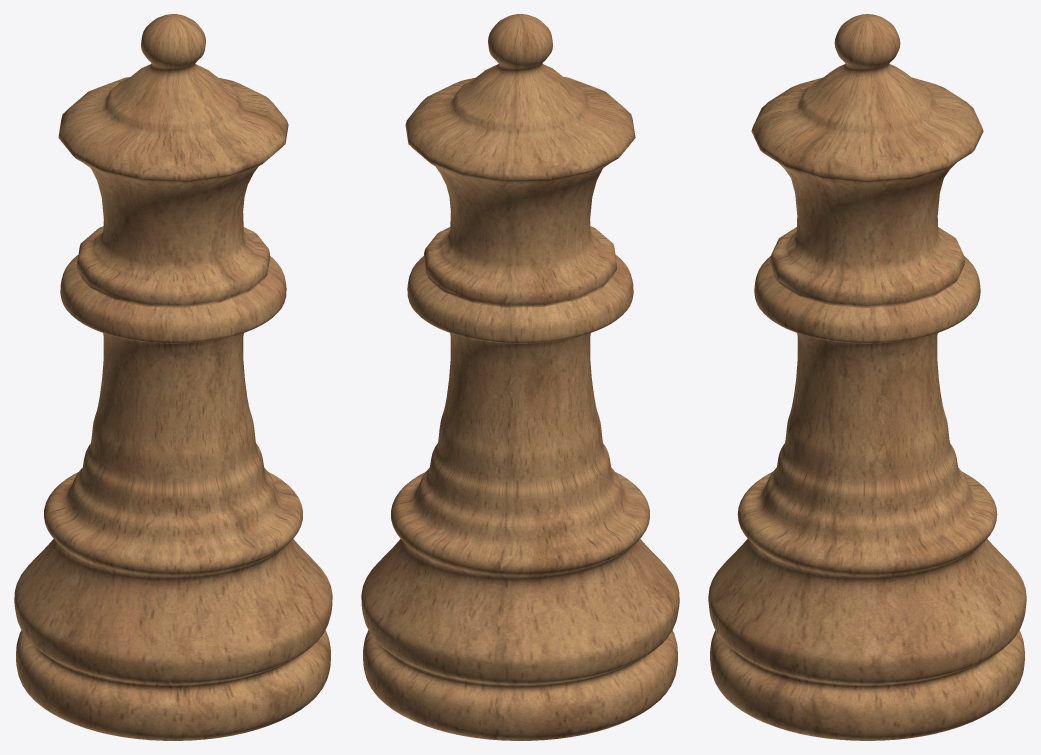
Rendered from 白クイーン.fbx.
The picture shows the model from 3 angles, left to right: view 1: azimuth 30°, elevation 25°; view 2: azimuth 150°, elevation 25°; view 3: azimuth 270°, elevation 25°; orthographic projection.
Visible parts, largest first — view 1: 白クイーン; view 2: 白クイーン; view 3: 白クイーン.
Part boxes in pixels (x1=…): 白クイーン: x1=14, y1=14, x2=332, y2=740; 白クイーン: x1=361, y1=14, x2=679, y2=740; 白クイーン: x1=708, y1=14, x2=1026, y2=740.
Size of the model in its own units: 2.48 by 5.78 by 2.48.
